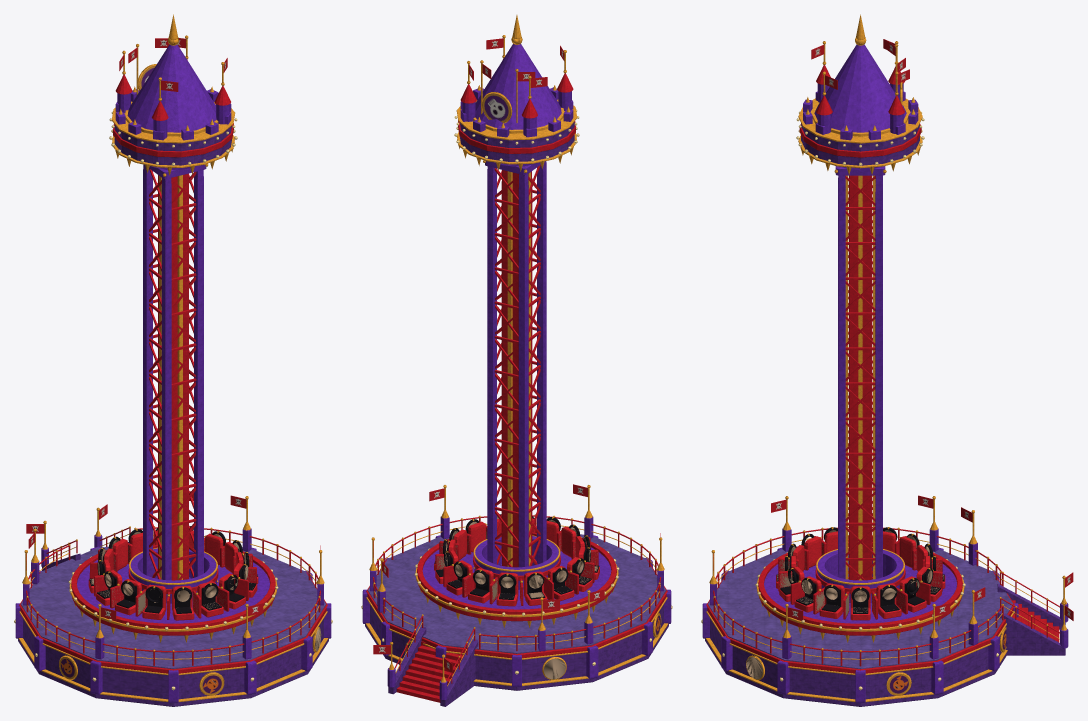
Rendered from CUR_GyroDrop_Fractured.fbx.
The picture shows the model from 3 angles, left to right: view 1: azimuth 30°, elevation 25°; view 2: azimuth 150°, elevation 25°; view 3: azimuth 270°, elevation 25°; orthographic projection. The views are drawn at different scales.
Visible parts, largest first — view 1: CUR_GyroDrop_Frag_08, CUR_GyroDrop_Frag_13, CUR_GyroDrop_Frag_12, CUR_GyroDrop_Frag_02, CUR_GyroDrop_Frag_10, CUR_GyroDrop_Frag_14, CUR_GyroDrop_Frag_17, CUR_GyroDrop_Frag_18, CUR_GyroDrop_Frag_09, CUR_GyroDrop_Frag_01, CUR_GyroDrop_Frag_05, CUR_GyroDrop_Frag_15 (+7 smaller); view 2: CUR_GyroDrop_Frag_04, CUR_GyroDrop_Frag_06, CUR_GyroDrop_Frag_10, CUR_GyroDrop_Frag_02, CUR_GyroDrop_Frag_09, CUR_GyroDrop_Frag_03, CUR_GyroDrop_Frag_15, CUR_GyroDrop_Frag_11, CUR_GyroDrop_Frag_07, CUR_GyroDrop_Frag_18, CUR_GyroDrop_Frag_14, CUR_GyroDrop_Frag_13 (+7 smaller); view 3: CUR_GyroDrop_Frag_05, CUR_GyroDrop_Frag_01, CUR_GyroDrop_Frag_00, CUR_GyroDrop_Frag_02, CUR_GyroDrop_Frag_16, CUR_GyroDrop_Frag_07, CUR_GyroDrop_Frag_14, CUR_GyroDrop_Frag_06, CUR_GyroDrop_Frag_10, CUR_GyroDrop_Frag_11, CUR_GyroDrop_Frag_04, CUR_GyroDrop_Frag_08 (+7 smaller).
Part boxes in pixels (x1,y1,x2,y2): CUR_GyroDrop_Frag_08: (132,579,263,706); CUR_GyroDrop_Frag_13: (109,77,228,178); CUR_GyroDrop_Frag_12: (49,603,165,705); CUR_GyroDrop_Frag_02: (143,439,245,586); CUR_GyroDrop_Frag_10: (143,317,203,457); CUR_GyroDrop_Frag_14: (143,244,203,364); CUR_GyroDrop_Frag_17: (173,628,299,706); CUR_GyroDrop_Frag_18: (79,527,183,635); CUR_GyroDrop_Frag_09: (111,129,203,266); CUR_GyroDrop_Frag_01: (241,545,332,677); CUR_GyroDrop_Frag_05: (189,526,317,610); CUR_GyroDrop_Frag_15: (15,537,87,678); CUR_GyroDrop_Frag_04: (438,553,560,645); CUR_GyroDrop_Frag_06: (373,627,502,706); CUR_GyroDrop_Frag_10: (487,325,546,457); CUR_GyroDrop_Frag_02: (482,429,546,566); CUR_GyroDrop_Frag_09: (487,147,546,272); CUR_GyroDrop_Frag_03: (499,599,603,690); CUR_GyroDrop_Frag_15: (554,589,653,677); CUR_GyroDrop_Frag_11: (460,15,547,147); CUR_GyroDrop_Frag_07: (368,537,448,664); CUR_GyroDrop_Frag_18: (507,525,616,619); CUR_GyroDrop_Frag_14: (487,240,546,336); CUR_GyroDrop_Frag_13: (508,45,579,163); CUR_GyroDrop_Frag_05: (786,575,917,695); CUR_GyroDrop_Frag_01: (719,593,821,702); CUR_GyroDrop_Frag_00: (804,99,924,180); CUR_GyroDrop_Frag_02: (789,439,888,583); CUR_GyroDrop_Frag_16: (820,636,956,706); CUR_GyroDrop_Frag_07: (913,584,1014,689); CUR_GyroDrop_Frag_14: (838,249,882,370); CUR_GyroDrop_Frag_06: (985,563,1073,656); CUR_GyroDrop_Frag_10: (838,325,882,454); CUR_GyroDrop_Frag_11: (822,14,923,118); CUR_GyroDrop_Frag_04: (873,510,986,618); CUR_GyroDrop_Frag_08: (711,535,825,617).
Size of the model in its own units: 2305 by 5010 by 2696.
